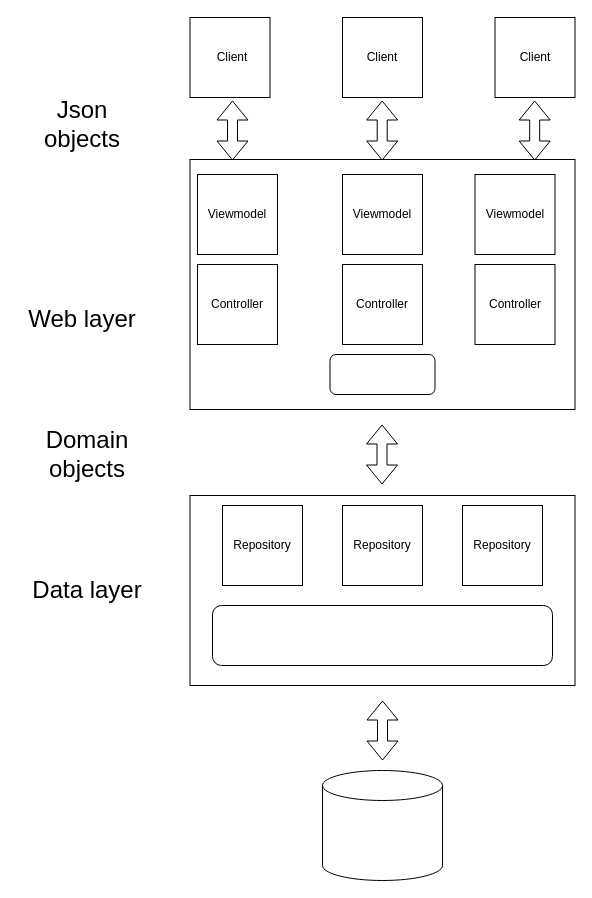
Some shapes in this 592 by 898 pixel diagram are drawn without their labels. Each missing label, with the centre of its shape:
"Imdb Context" goes at (382,635).
"Imdb Database" goes at (382,825).
"Startup.cs" goes at (382,374).
